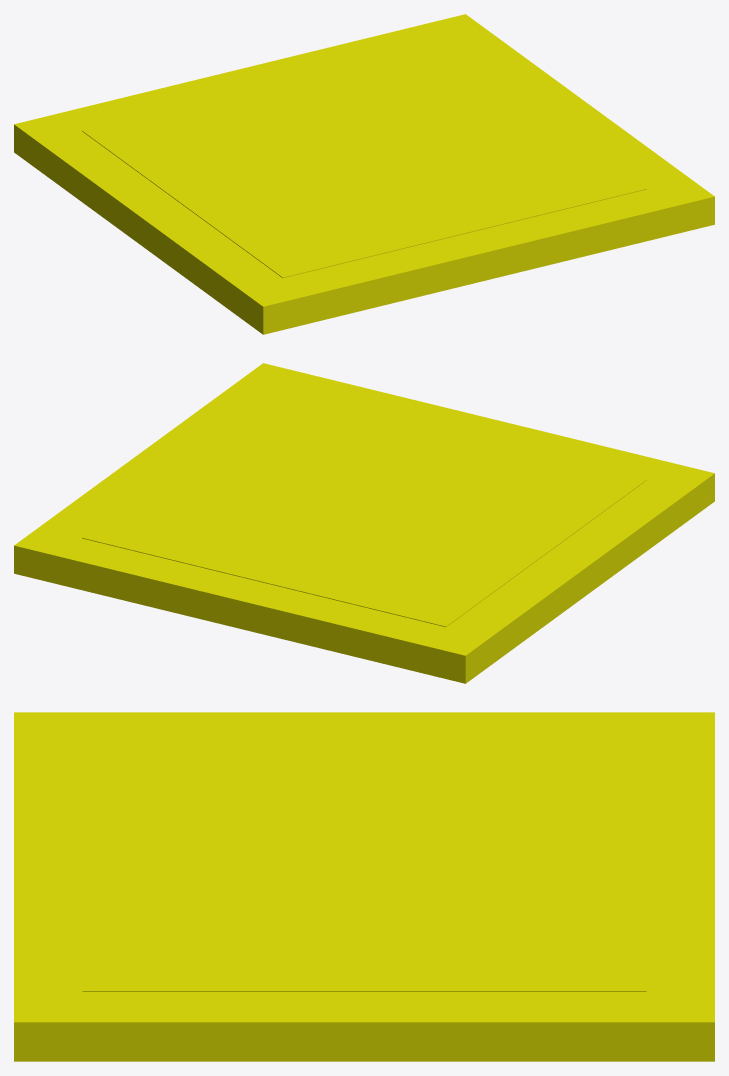
File: Floor.fbx
The picture shows the model from 3 angles, top to bottom: view 1: azimuth 30°, elevation 25°; view 2: azimuth 150°, elevation 25°; view 3: azimuth 270°, elevation 25°; orthographic projection. The views are drawn at different scales.
Parts seen in each view (by area): view 1: Floor_Desk1; view 2: Floor_Desk1; view 3: Floor_Desk1.
Part boxes in pixels (x1,y1,x2,y2): Floor_Desk1: (14, 14, 714, 334); Floor_Desk1: (14, 363, 714, 683); Floor_Desk1: (14, 712, 714, 1061).
Size of the model in its own units: 442 by 26.93 by 422.
